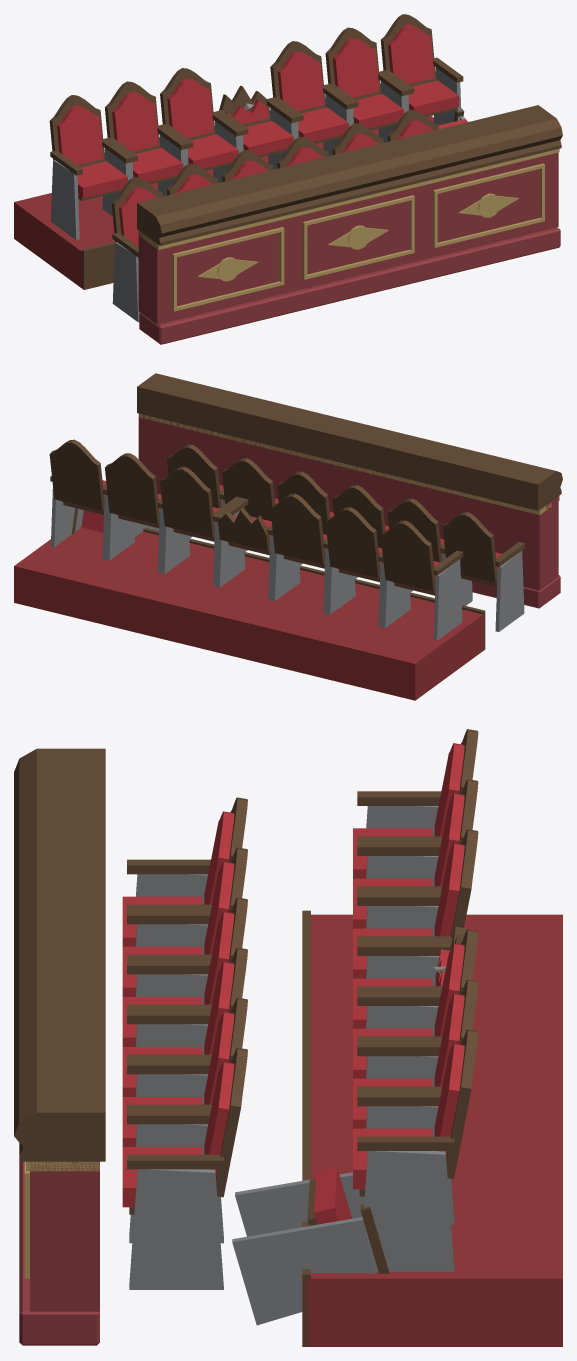
The model's file is balcony_front.glb.
3 renders of one model, top to bottom at view 1: azimuth 30°, elevation 25°; view 2: azimuth 150°, elevation 25°; view 3: azimuth 270°, elevation 25°, orthographic. The views are drawn at different scales.
Parts seen in each view (by area): view 1: dark_wood__balcony_front__solid, wall_theater__balcony_front__solid, velvet__balcony_front__solid, brass__balcony_front__solid, steel__balcony_front__solid, carpet_red__balcony_front__solid, brass__balcony_front__ns; view 2: dark_wood__balcony_front__solid, carpet_red__balcony_front__solid, wall_theater__balcony_front__solid, steel__balcony_front__solid, brass__balcony_front__solid, velvet__balcony_front__solid; view 3: dark_wood__balcony_front__solid, carpet_red__balcony_front__solid, steel__balcony_front__solid, velvet__balcony_front__solid, wall_theater__balcony_front__solid, brass__balcony_front__solid.
Part boxes in pixels (x1,y1,x2,y2): dark_wood__balcony_front__solid: [49, 14, 562, 289]; wall_theater__balcony_front__solid: [138, 152, 560, 344]; velvet__balcony_front__solid: [57, 24, 467, 246]; brass__balcony_front__solid: [138, 148, 559, 311]; steel__balcony_front__solid: [50, 67, 467, 322]; carpet_red__balcony_front__solid: [14, 116, 433, 288]; brass__balcony_front__ns: [198, 195, 518, 279]; dark_wood__balcony_front__solid: [49, 373, 562, 650]; carpet_red__balcony_front__solid: [14, 526, 484, 700]; wall_theater__balcony_front__solid: [138, 414, 560, 608]; steel__balcony_front__solid: [50, 488, 524, 640]; brass__balcony_front__solid: [138, 413, 559, 514]; velvet__balcony_front__solid: [61, 480, 501, 592]; dark_wood__balcony_front__solid: [14, 729, 478, 1346]; carpet_red__balcony_front__solid: [306, 914, 562, 1346]; steel__balcony_front__solid: [129, 806, 454, 1325]; velvet__balcony_front__solid: [122, 743, 464, 1224]; wall_theater__balcony_front__solid: [19, 1161, 99, 1345]; brass__balcony_front__solid: [24, 1161, 99, 1278].
Size of the model in its own units: 4 by 1.46 by 2.55.
